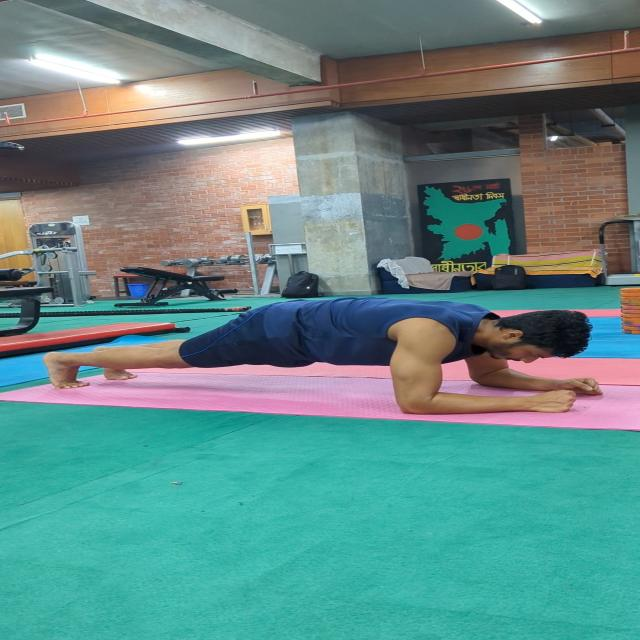Normal_Plunk: (31, 266, 608, 436)
